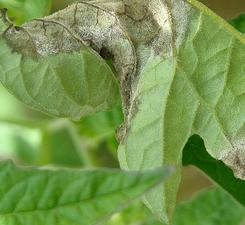Tomato leaf late blight: (0, 0, 245, 225), (0, 99, 214, 225)
